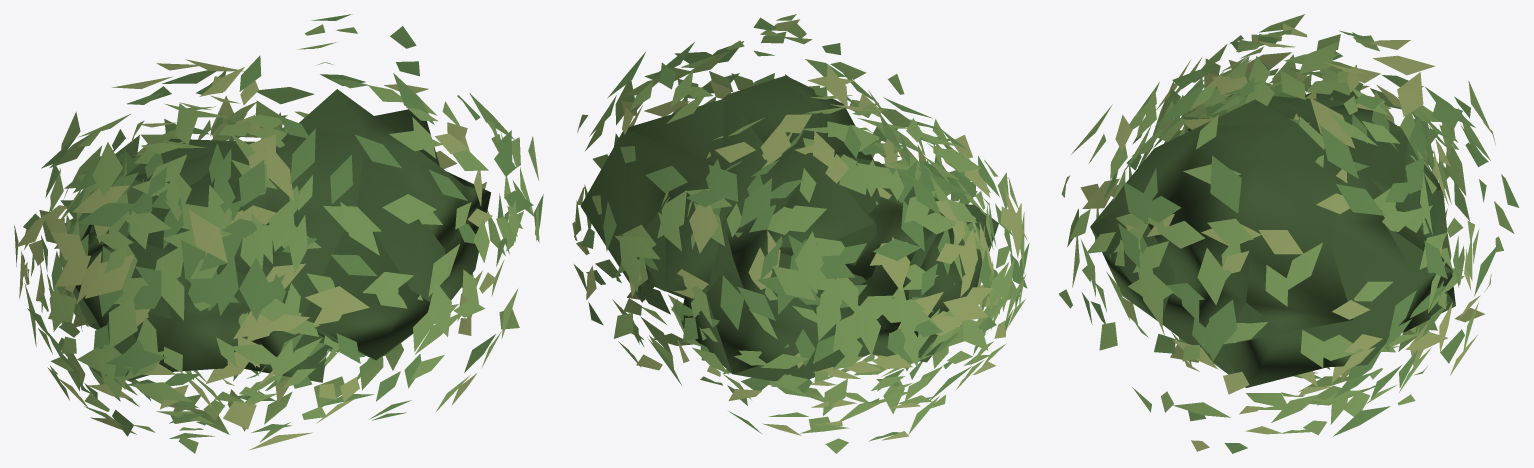
Rendered from ZR_LeafyBush.fbx.
3 renders of one model, left to right at view 1: azimuth 30°, elevation 25°; view 2: azimuth 150°, elevation 25°; view 3: azimuth 270°, elevation 25°, orthographic. The views are drawn at different scales.
Visible parts, largest first — view 1: ZR_LeafyBush; view 2: ZR_LeafyBush; view 3: ZR_LeafyBush.
Part boxes in pixels (bbox=[...]): ZR_LeafyBush: bbox=[14, 14, 543, 453]; ZR_LeafyBush: bbox=[572, 14, 1029, 453]; ZR_LeafyBush: bbox=[1059, 14, 1519, 453].
Bounding box in the file's own units: 1.32 × 1.02 × 1.12.
